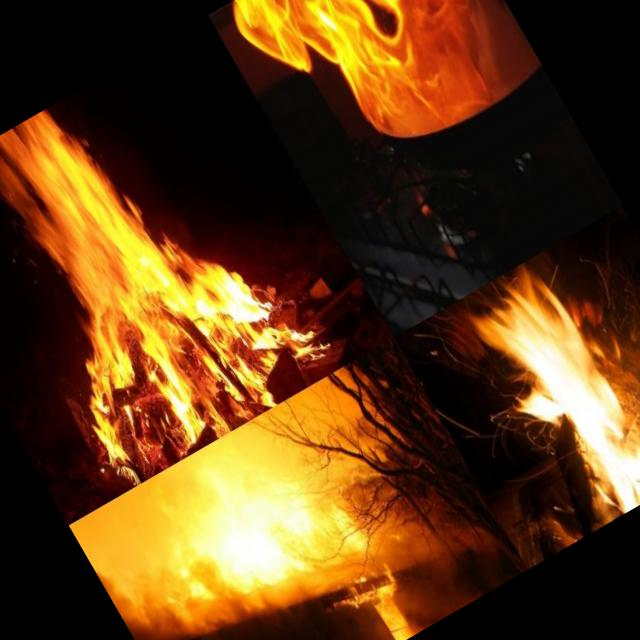fire: (0, 51, 331, 491), (222, 0, 544, 194), (459, 235, 640, 535), (351, 563, 423, 640)
smoke: (85, 530, 238, 640)
